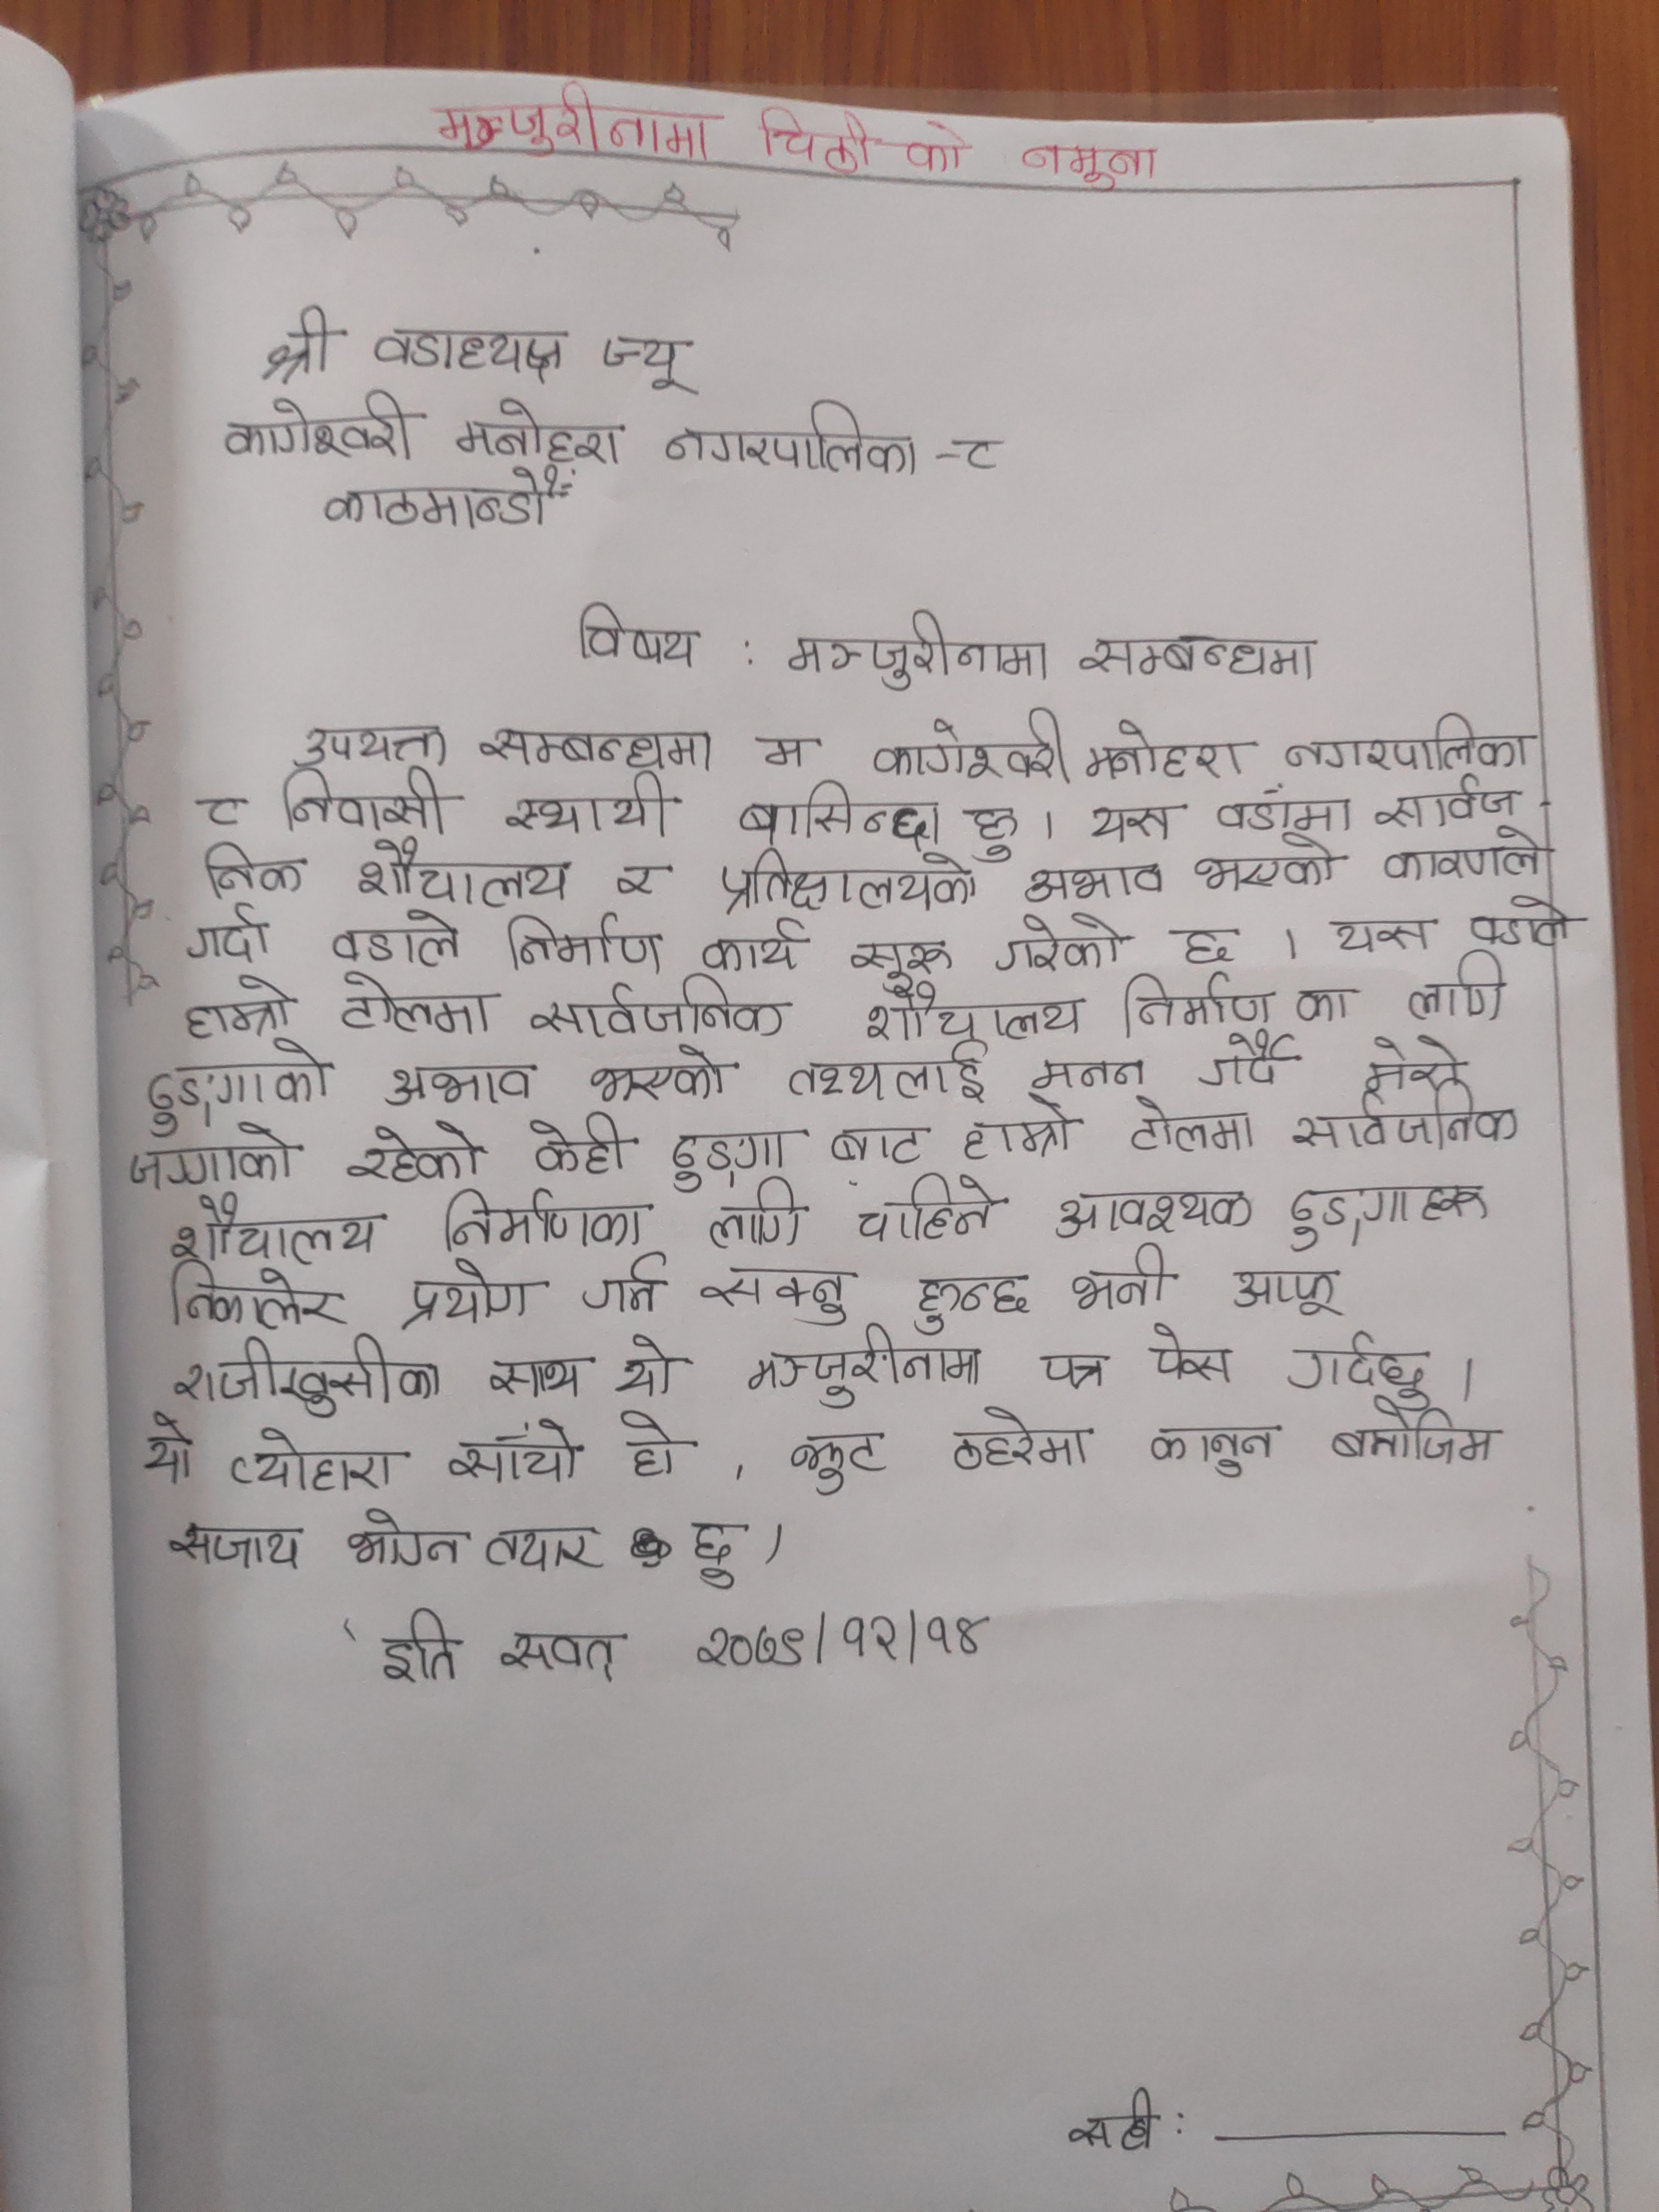text: (432, 80, 716, 164), (169, 1332, 450, 1416), (786, 606, 1053, 690), (660, 401, 927, 481), (742, 1327, 990, 1409), (141, 1040, 342, 1136), (716, 848, 985, 920), (690, 1609, 992, 1670), (1283, 709, 1541, 775), (321, 467, 573, 533), (1272, 1092, 1530, 1157), (218, 392, 430, 467), (530, 982, 796, 1042), (870, 712, 1079, 787), (162, 1197, 389, 1264), (221, 1421, 408, 1501), (432, 1183, 655, 1249), (350, 836, 577, 900), (1286, 1181, 1490, 1252), (366, 320, 573, 390), (782, 1042, 999, 1108), (1079, 632, 1328, 688), (471, 723, 730, 775), (849, 984, 1091, 1040), (162, 1259, 356, 1329), (451, 395, 629, 470), (1333, 1395, 1499, 1472), (735, 784, 936, 846), (497, 909, 669, 981), (946, 1397, 1098, 1477), (274, 765, 448, 834), (329, 972, 497, 1043), (504, 779, 687, 841), (120, 1125, 303, 1188), (697, 1259, 857, 1331), (1283, 1339, 1443, 1411), (439, 1416, 586, 1493), (387, 1258, 542, 1329), (1080, 719, 1251, 784), (1044, 1188, 1258, 1238), (852, 1174, 1000, 1245), (1375, 826, 1556, 883), (575, 597, 708, 676), (587, 1043, 742, 1109), (1108, 972, 1276, 1033), (751, 103, 885, 176), (160, 1512, 307, 1578), (1121, 1094, 1260, 1162), (378, 1059, 542, 1116), (335, 1501, 465, 1573), (990, 907, 1134, 972), (1230, 1258, 1356, 1331), (1190, 840, 1349, 897), (591, 326, 709, 402), (493, 1620, 627, 1686), (338, 1127, 491, 1184), (897, 1270, 1030, 1336), (1140, 1416, 1279, 1479), (662, 1120, 793, 1186), (697, 1181, 812, 1256), (188, 836, 317, 902), (1373, 779, 1535, 831), (1018, 141, 1164, 199), (1012, 857, 1176, 907), (1396, 958, 1514, 1028), (1349, 1029, 1483, 1090), (1065, 2085, 1169, 2161), (476, 1519, 606, 1580), (328, 909, 465, 967), (293, 721, 455, 770), (1068, 1240, 1178, 1312), (962, 1104, 1079, 1170), (1143, 1318, 1249, 1388), (179, 977, 303, 1036), (525, 1116, 629, 1184), (1192, 1033, 1297, 1099), (1460, 892, 1574, 953), (258, 305, 342, 387), (376, 1608, 462, 1688), (1208, 791, 1358, 836), (786, 1433, 894, 1494), (612, 1414, 699, 1487), (183, 900, 279, 967), (1077, 796, 1185, 852), (697, 923, 809, 977), (575, 1256, 666, 1320), (819, 1113, 931, 1165), (1324, 914, 1438, 961), (483, 1353, 591, 1402), (835, 941, 957, 982), (610, 1332, 685, 1400), (896, 115, 972, 181), (1025, 1054, 1155, 1092), (958, 794, 1026, 867), (685, 1512, 744, 1592), (134, 1421, 202, 1489), (1032, 1346, 1114, 1393), (1164, 921, 1244, 965), (1283, 984, 1351, 1029), (756, 732, 826, 773), (613, 857, 673, 904), (186, 794, 256, 833)
